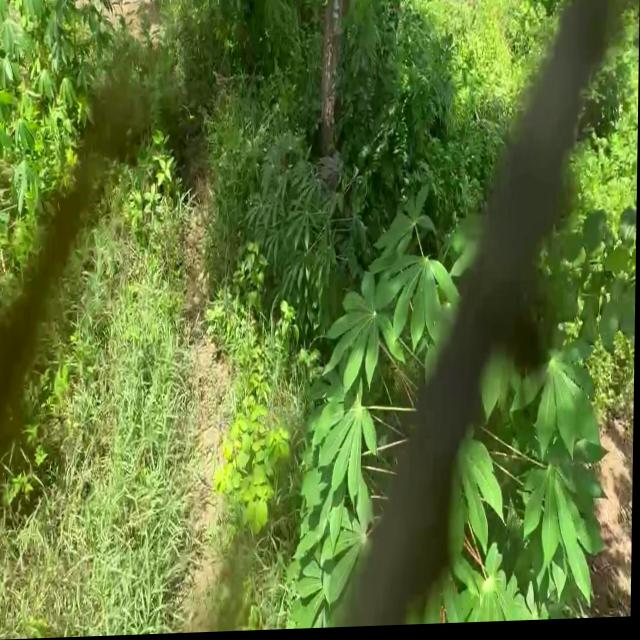Maleza: (94, 391, 242, 568), (83, 256, 217, 427), (15, 504, 159, 640), (187, 220, 285, 376), (121, 124, 216, 266), (227, 376, 283, 522)
